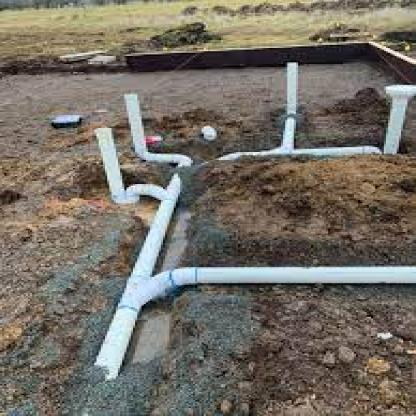PVC: (93, 62, 414, 379)
